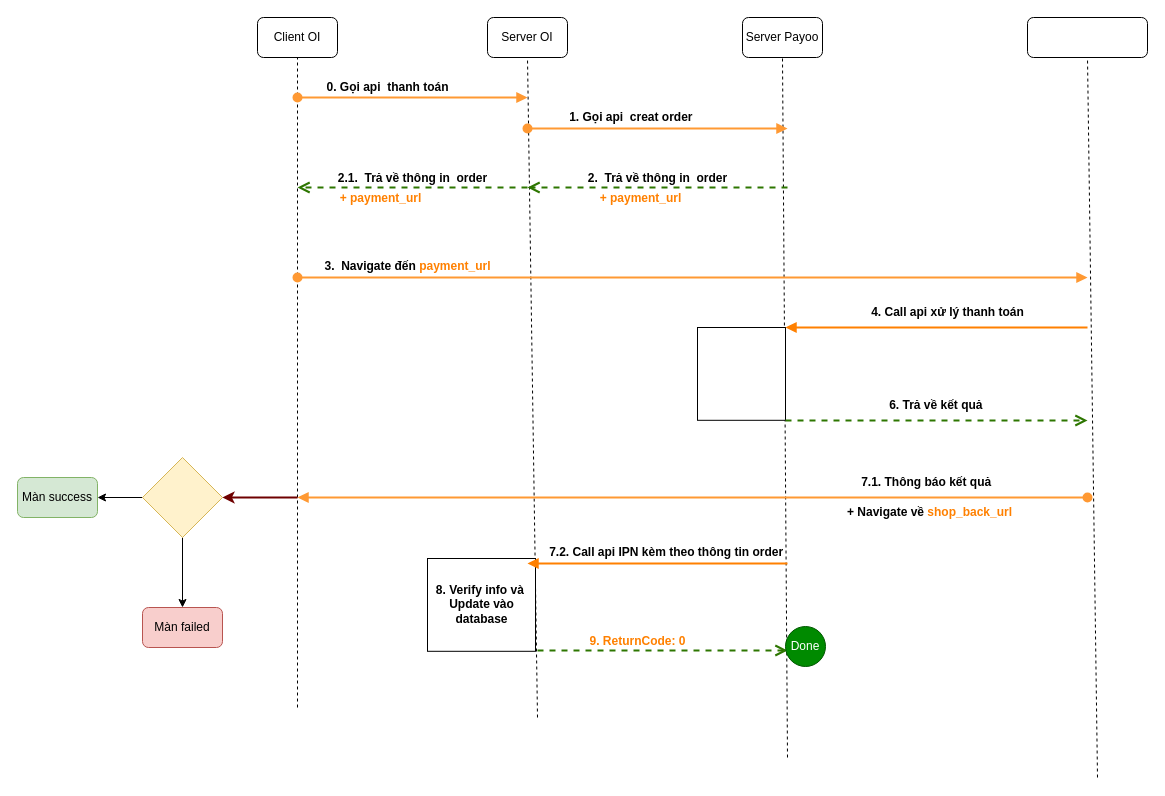
Some shapes in this 1165 by 796 pixel diagram are drawn without their labels. Each missing label, with the centre of its shape:
"5. Xử lý data" belongs at point 741,373.
"status" belongs at point 182,497.
"Web Payment Payoo" belongs at point 1087,37.
